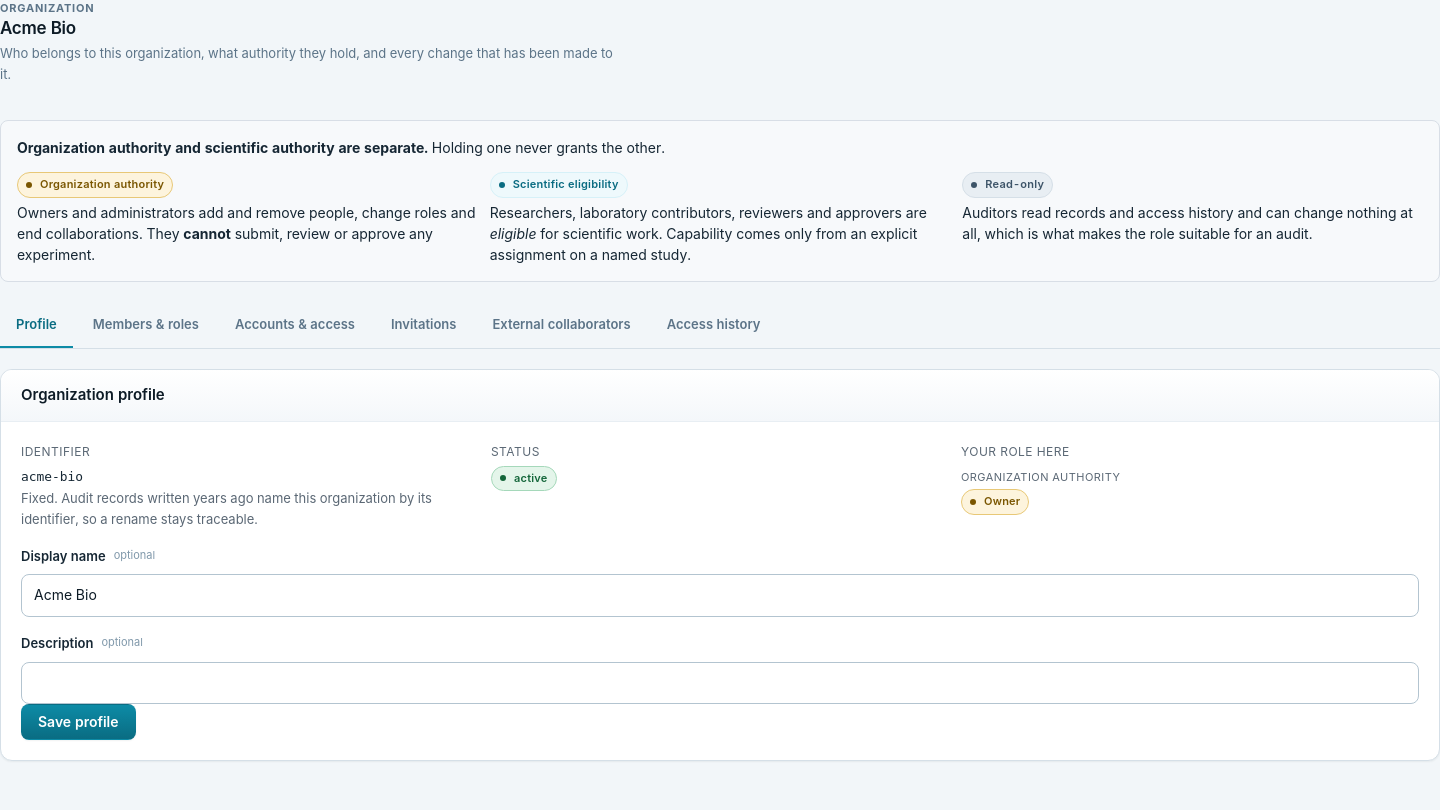
Test: organization authority versus scientific assignment › labels an administrator as authority and an approver as scientific
Click the tab "Members & roles" at [146, 325], box [77, 302, 215, 348]
(page scrolled)
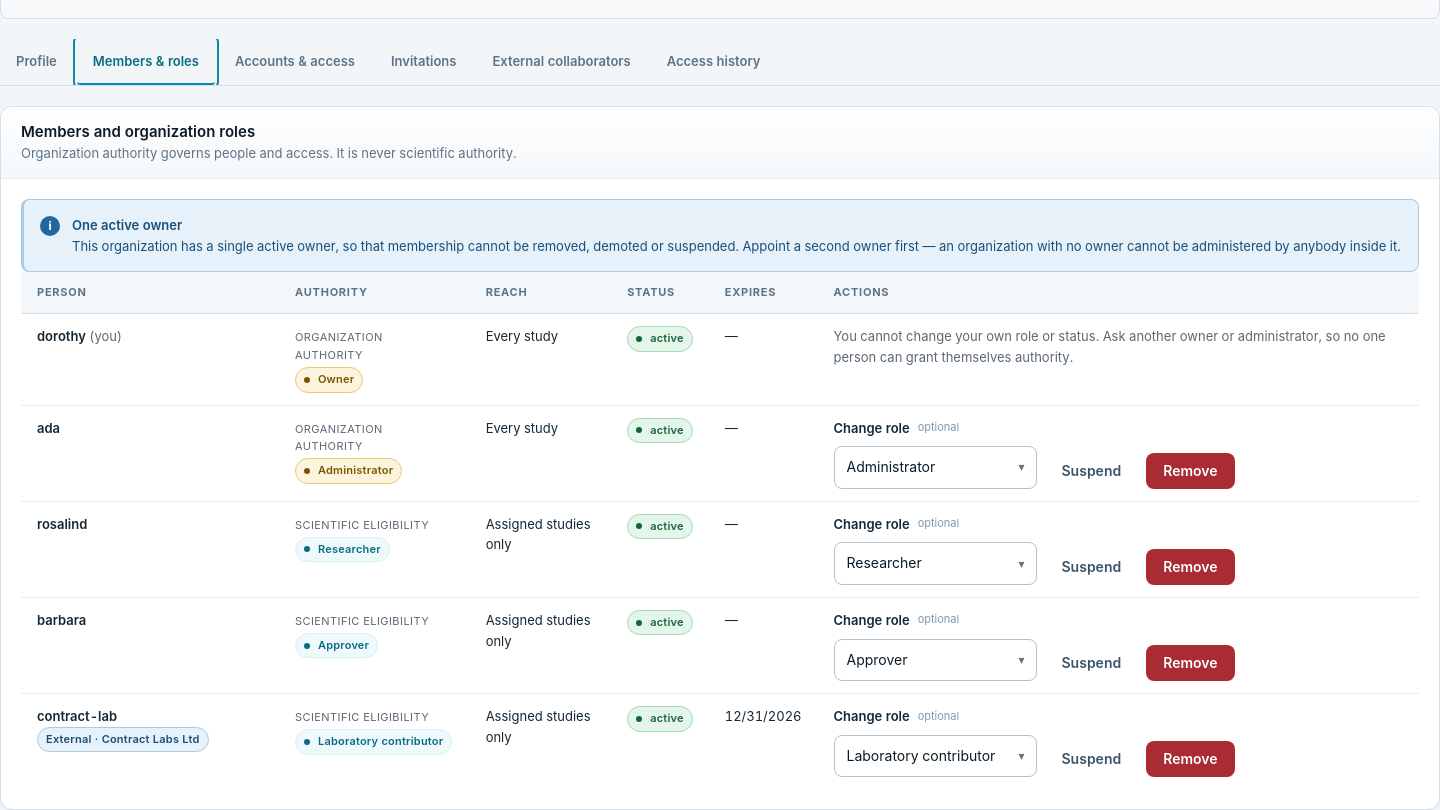
Expected: the element with test id "member-role-ada" is shown, [295, 422, 402, 484]
Expected: the element with test id "member-role-ada" shows "Organization authority", [295, 422, 383, 453]
Expected: the element with test id "member-role-barbara" shows "Scientific eligibility", [295, 614, 429, 628]
